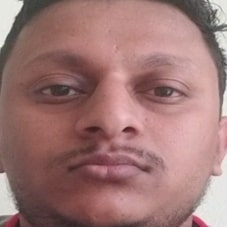awake: (21, 40, 201, 213)
